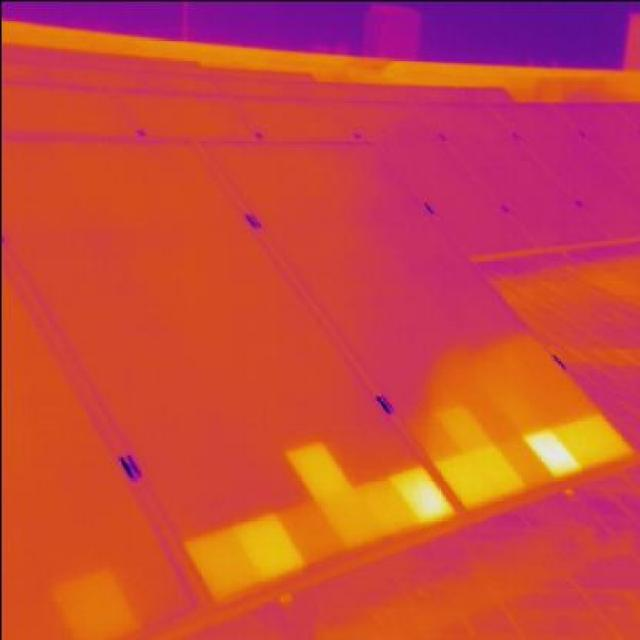hotspot: (336, 455, 418, 550), (185, 518, 253, 605), (232, 504, 303, 584), (384, 456, 454, 532), (276, 436, 352, 501), (567, 405, 635, 467), (520, 422, 580, 482), (468, 439, 524, 501), (432, 401, 490, 453)
